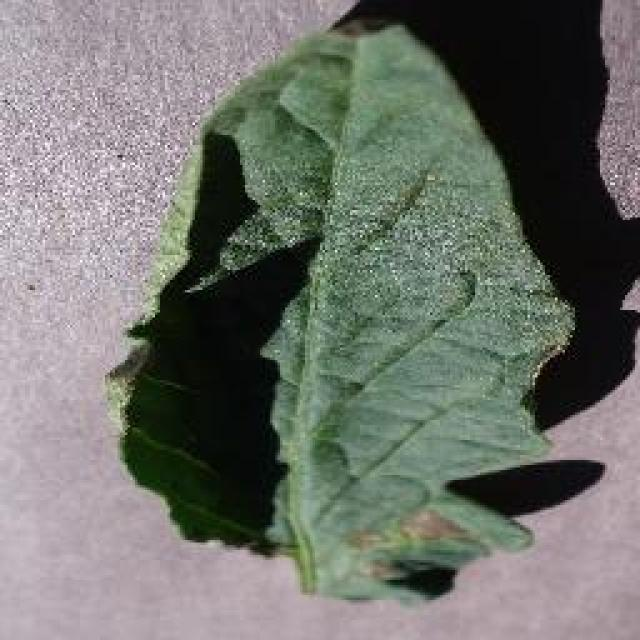leaf blight: (106, 8, 575, 609)
